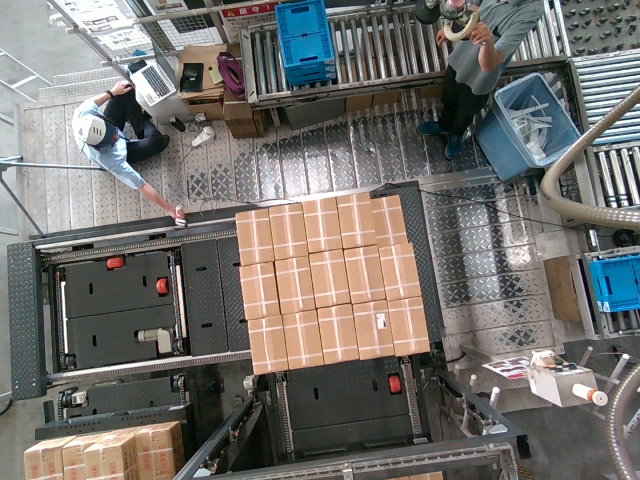box: (380, 243, 420, 301), (389, 297, 426, 354), (354, 301, 391, 358), (318, 305, 355, 362), (283, 309, 320, 366), (247, 315, 284, 372), (234, 208, 270, 264), (268, 202, 304, 258), (303, 195, 339, 251), (338, 192, 374, 248), (276, 255, 310, 313), (311, 250, 345, 308), (345, 245, 379, 303), (239, 267, 277, 317)
